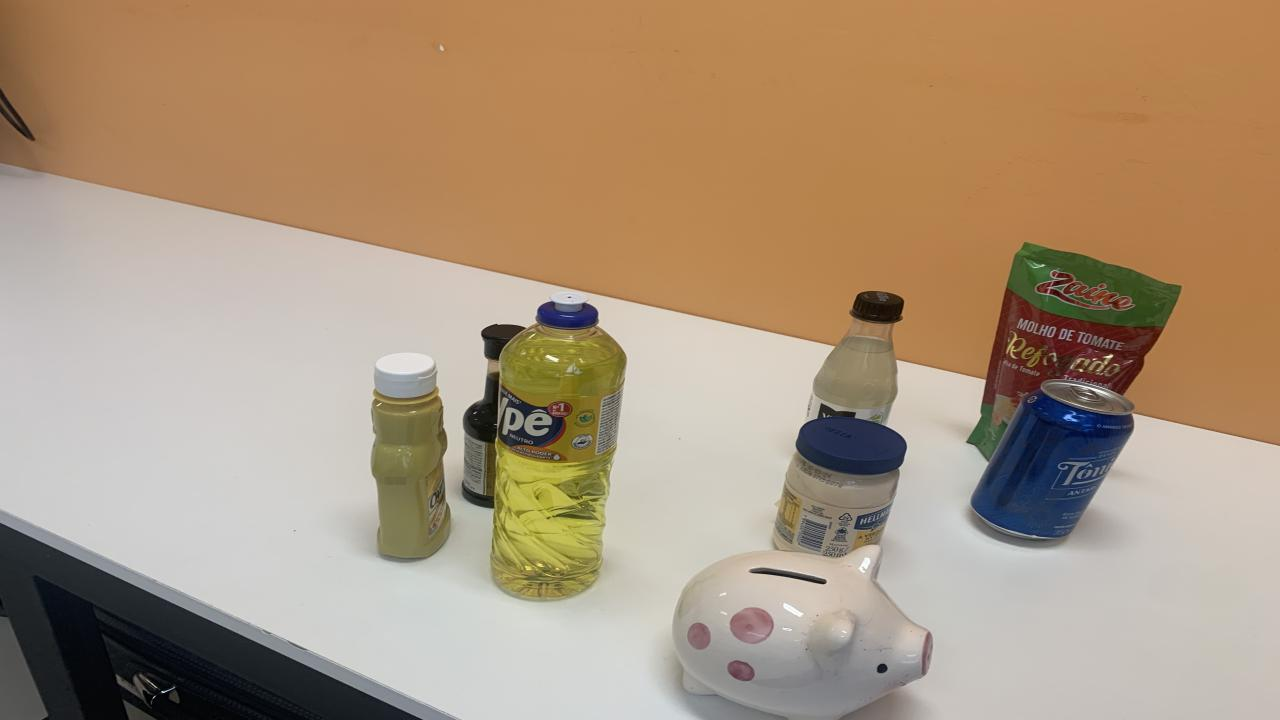Detergent-Cleanup_Items: (490, 292, 628, 600)
English_Sauce-Pantry_Items: (462, 324, 522, 508)
Mayonnaise-Pantry_Items: (772, 416, 908, 557)
Mustard-Pantry_Items: (370, 352, 450, 559)
Pig_Safe-Miscellaneous: (672, 546, 932, 718)
Soda-Drinks: (808, 291, 905, 426)
Tomato_Sauce-Pantry_Items: (968, 244, 1180, 459)
Tonic-Drinks: (970, 379, 1132, 540)
